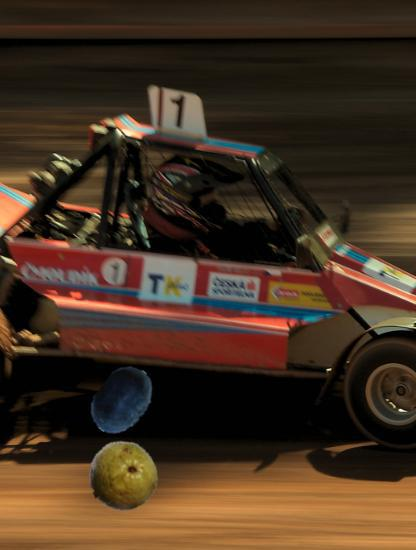Blueberry: (86, 364, 159, 437)
Guava: (86, 440, 159, 513)
